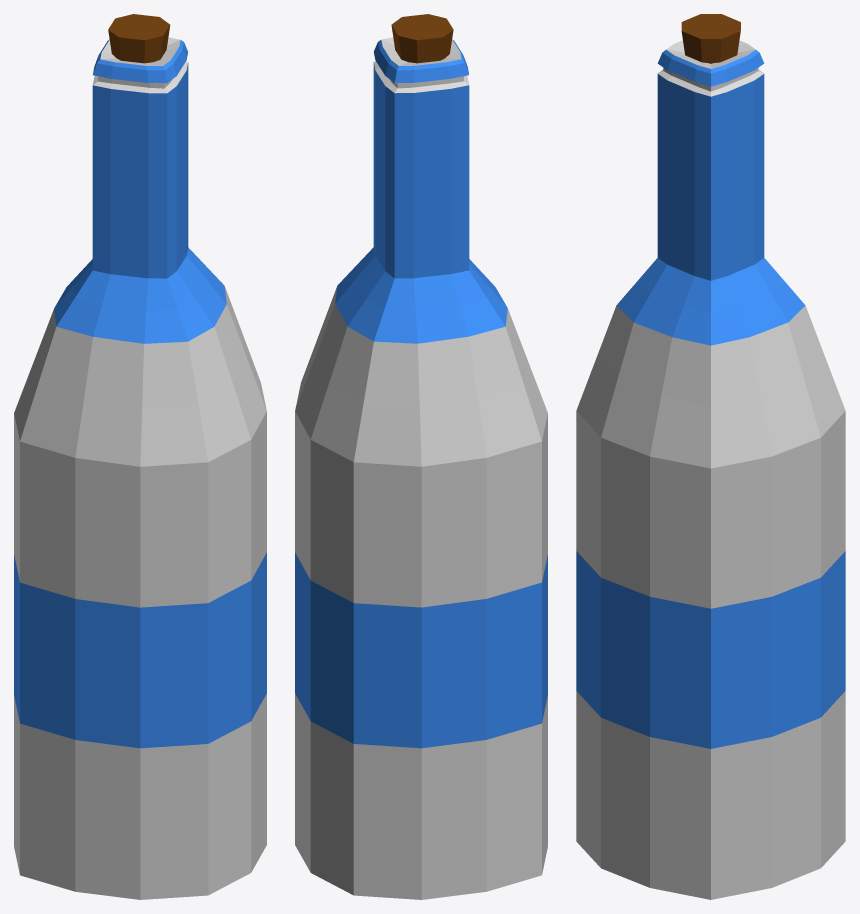
The model's file is Bottle_Blue.fbx.
3 renders of one model, left to right at view 1: azimuth 30°, elevation 25°; view 2: azimuth 150°, elevation 25°; view 3: azimuth 270°, elevation 25°, orthographic.
Parts seen in each view (by area): view 1: Bottle-2; view 2: Bottle-2; view 3: Bottle-2.
Part boxes in pixels (x1,y1,x2,y2): Bottle-2: [14, 14, 266, 899]; Bottle-2: [295, 14, 547, 899]; Bottle-2: [576, 14, 845, 899].
Size of the model in its own units: 4.4 by 14.3 by 4.29.
